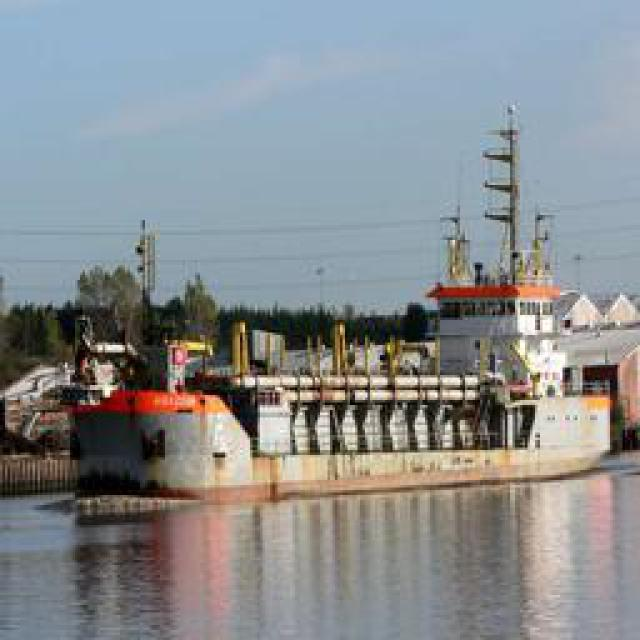Ship: (56, 251, 624, 515)
